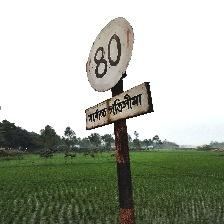Speed-limit: (84, 15, 152, 132)
